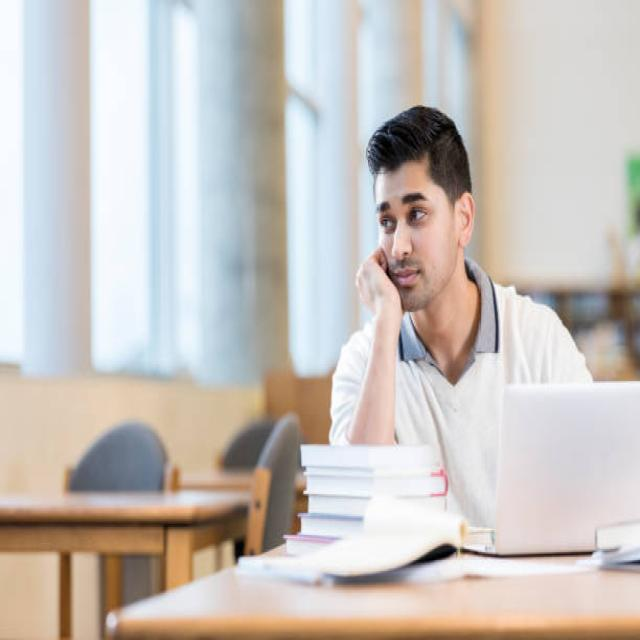Distracted: (377, 166, 459, 308)
